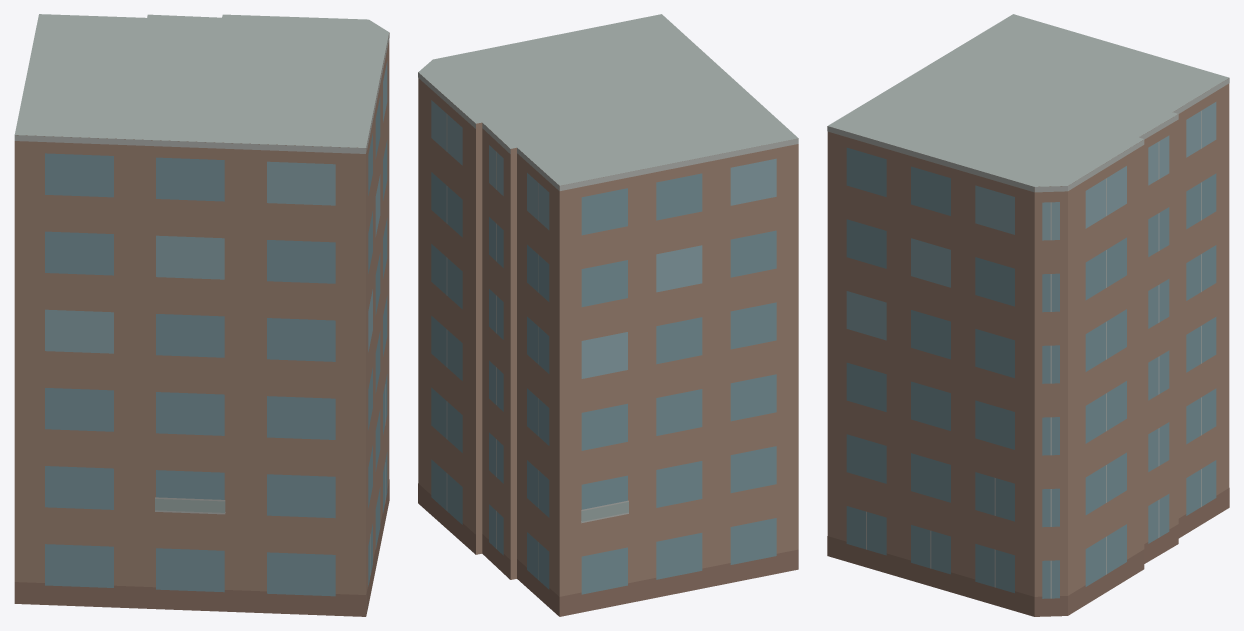
Rendered from survey-upis-32993641.glb.
3 views of the same model, side by side, from view 1: azimuth 30°, elevation 25°; view 2: azimuth 150°, elevation 25°; view 3: azimuth 270°, elevation 25° (orthographic). The views are drawn at different scales.
Parts seen in each view (by area): view 1: survey-upis-32993641.tmp; view 2: survey-upis-32993641.tmp; view 3: survey-upis-32993641.tmp.
Part boxes in pixels (x1=…): survey-upis-32993641.tmp: x1=14, y1=14, x2=389, y2=616; survey-upis-32993641.tmp: x1=418, y1=14, x2=798, y2=616; survey-upis-32993641.tmp: x1=827, y1=14, x2=1229, y2=616.
Size of the model in its own units: 16.48 by 19.1 by 16.19.
